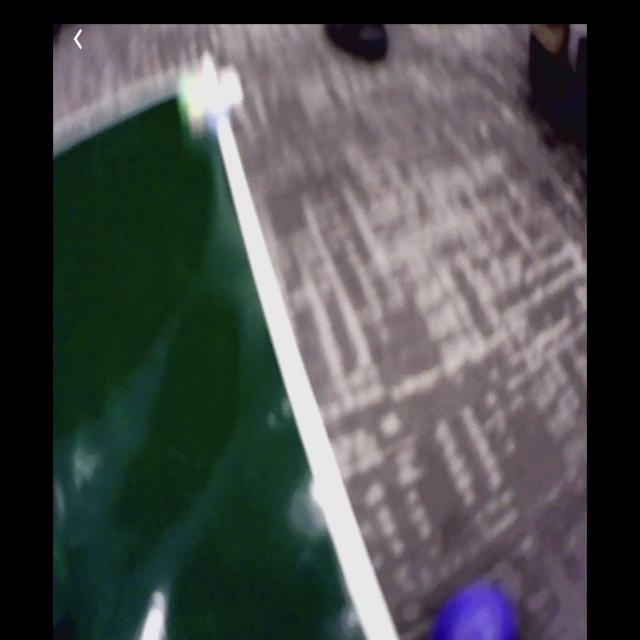ball: (437, 585, 519, 640)
